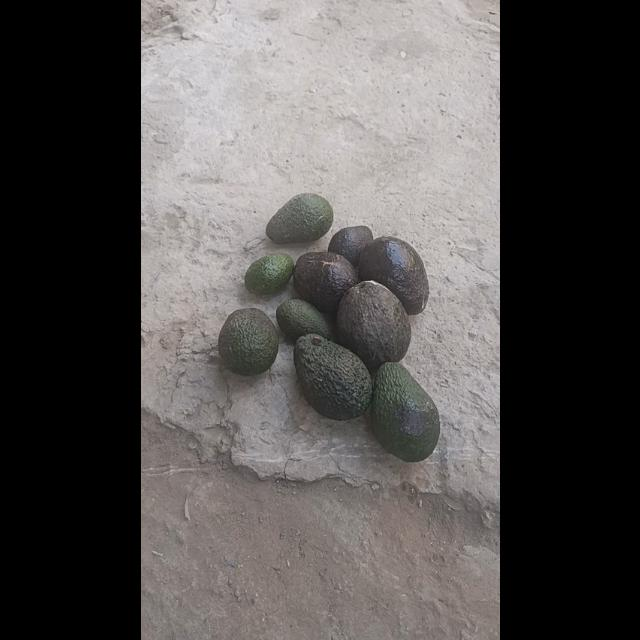Primera: (368, 360, 439, 460), (336, 281, 410, 371), (293, 334, 371, 418), (358, 236, 428, 314), (292, 250, 358, 314)
Segunda: (217, 306, 277, 376), (265, 192, 333, 244)
Tercera: (274, 298, 330, 342), (243, 252, 293, 296), (326, 225, 374, 267)
